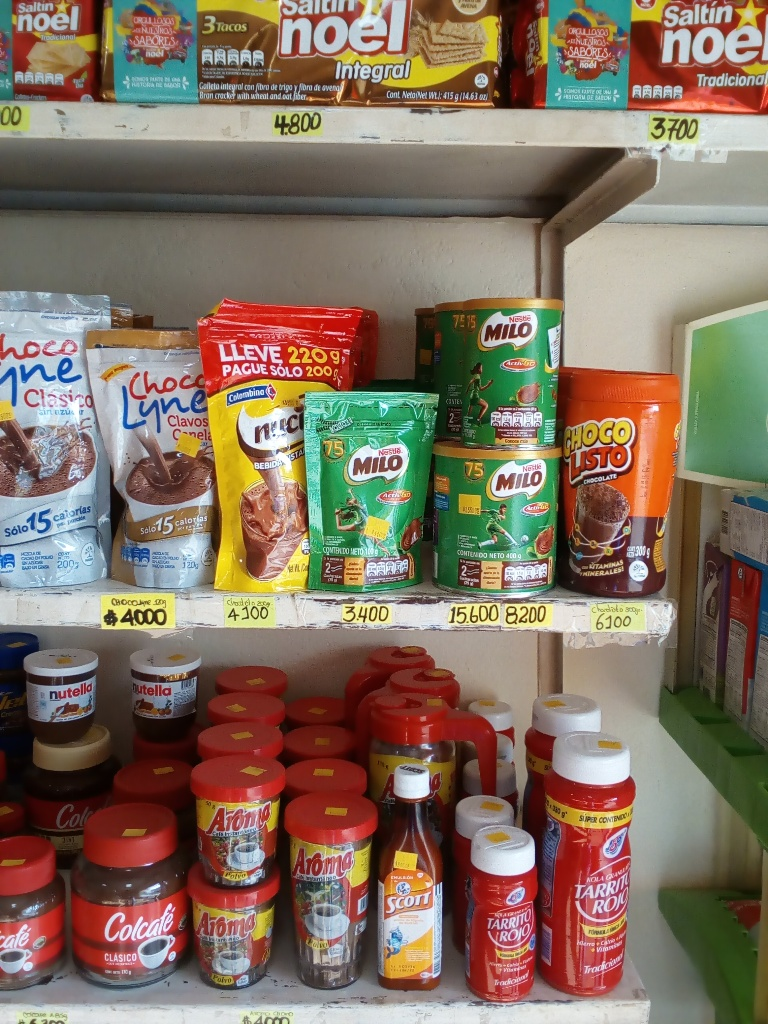COL0170203DYP10000: (299, 388, 437, 594)
COL0170203LAT20000: (458, 298, 568, 443)
COL0170203LAT40000: (438, 437, 564, 602)
